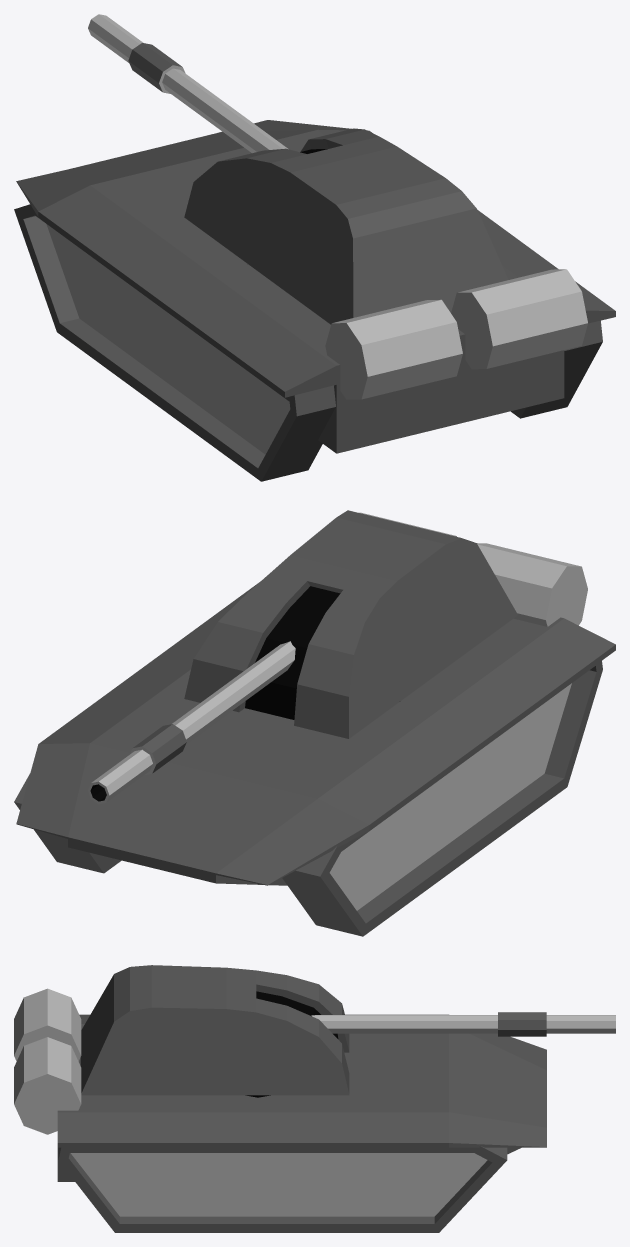
File: Tank.glb
3 views of the same model, one above another, from view 1: azimuth 30°, elevation 25°; view 2: azimuth 150°, elevation 25°; view 3: azimuth 270°, elevation 25° (orthographic). The views are drawn at different scales.
Visible parts, largest first — view 1: Body, Turret, Tracks, Barrels, Barrel; view 2: Body, Turret, Tracks, Barrel, Barrels; view 3: Body, Tracks, Turret, Barrels, Barrel.
Part boxes in pixels (box(x1,y1,x2,y2)): Body: box(16, 120, 615, 453); Turret: box(184, 128, 508, 324); Tracks: box(14, 204, 602, 481); Barrels: box(325, 269, 587, 399); Barrel: box(88, 14, 288, 153); Body: box(16, 581, 615, 885); Turret: box(184, 510, 517, 738); Tracks: box(14, 661, 602, 936); Barrel: box(88, 641, 295, 804); Barrels: box(358, 512, 587, 626); Body: box(57, 1014, 546, 1181); Tracks: box(58, 1146, 507, 1232); Turret: box(80, 965, 349, 1095); Barrels: box(14, 988, 81, 1134); Barrel: box(311, 1012, 615, 1036).
Size of the model in its own units: 6.2 by 4.22 by 12.3.
1 material, 1 textured.
